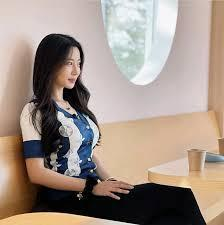Tshirt: (15, 96, 106, 188)
